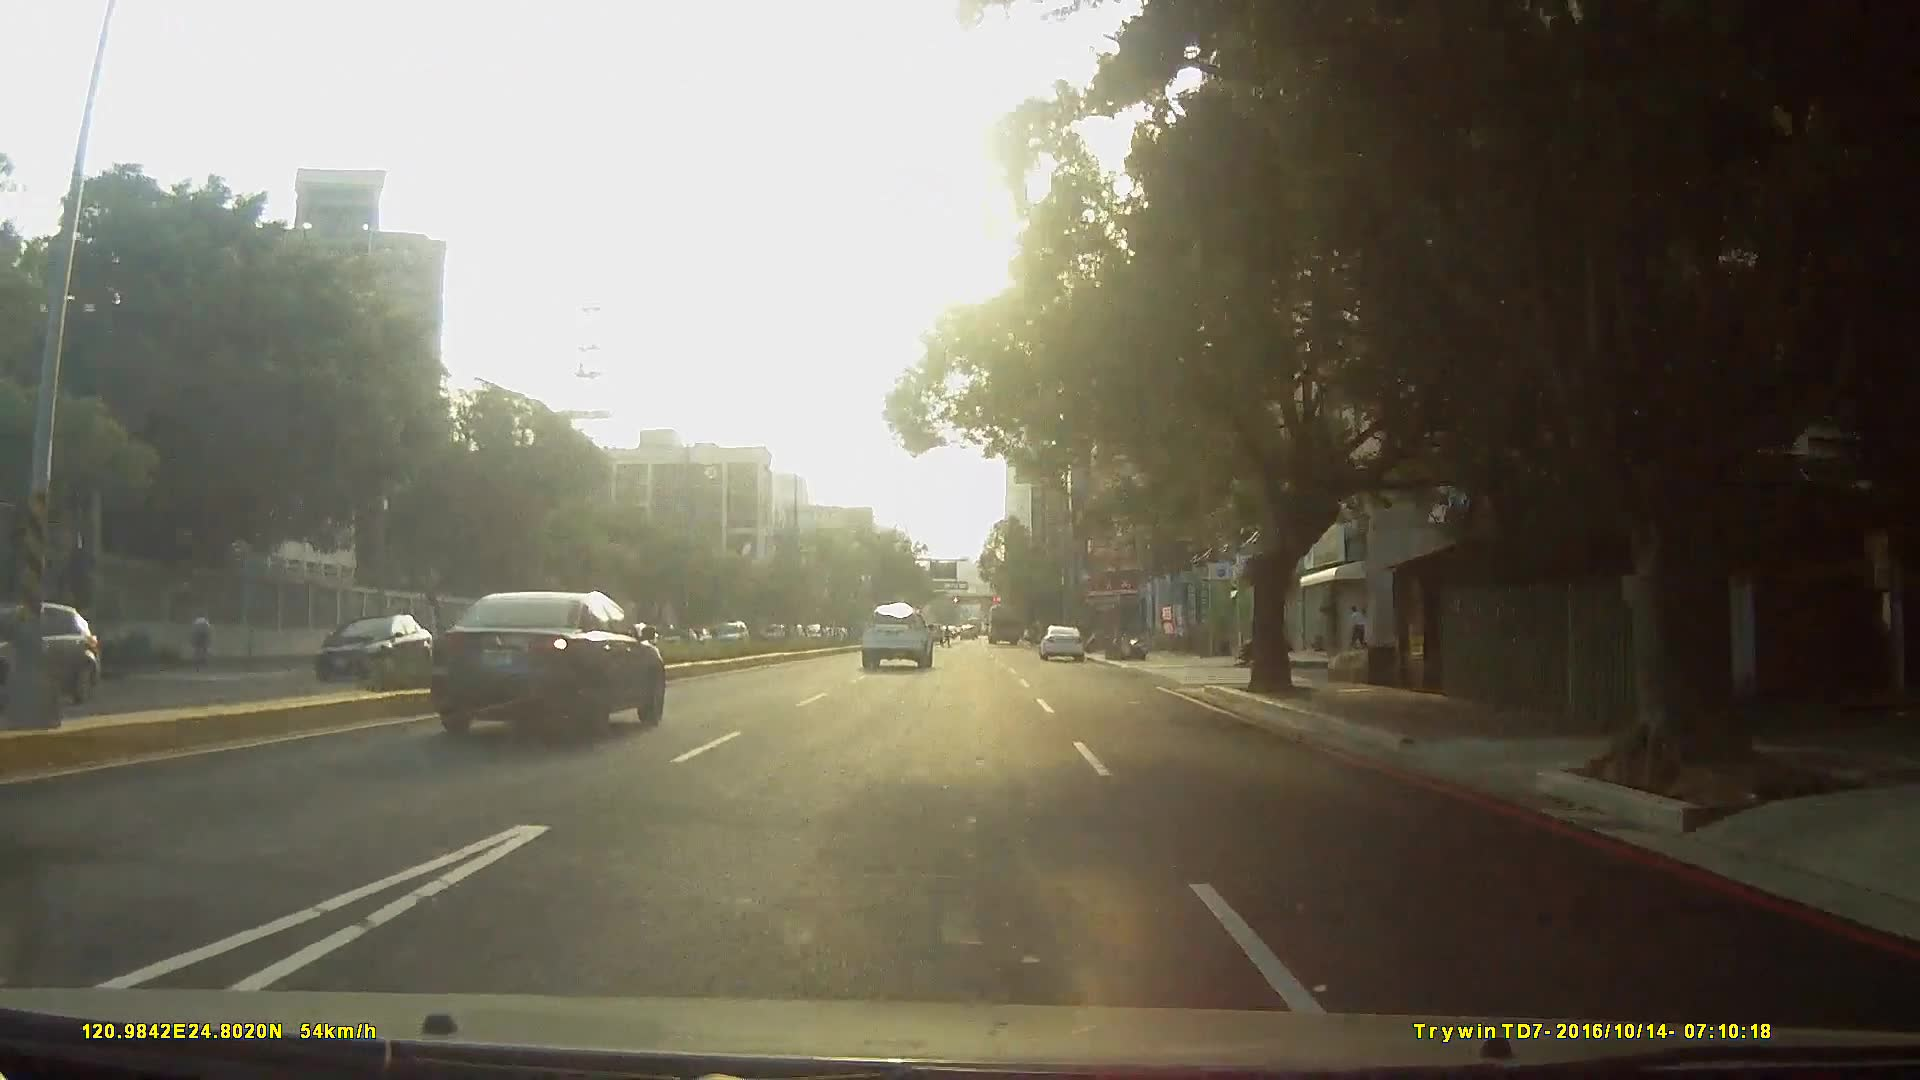pedestrian: (185, 611, 214, 669), (1347, 607, 1367, 653)
vehicle: (431, 586, 668, 742), (1, 601, 125, 718), (303, 613, 444, 686), (859, 598, 936, 668), (1037, 620, 1086, 661), (985, 598, 1024, 643)
